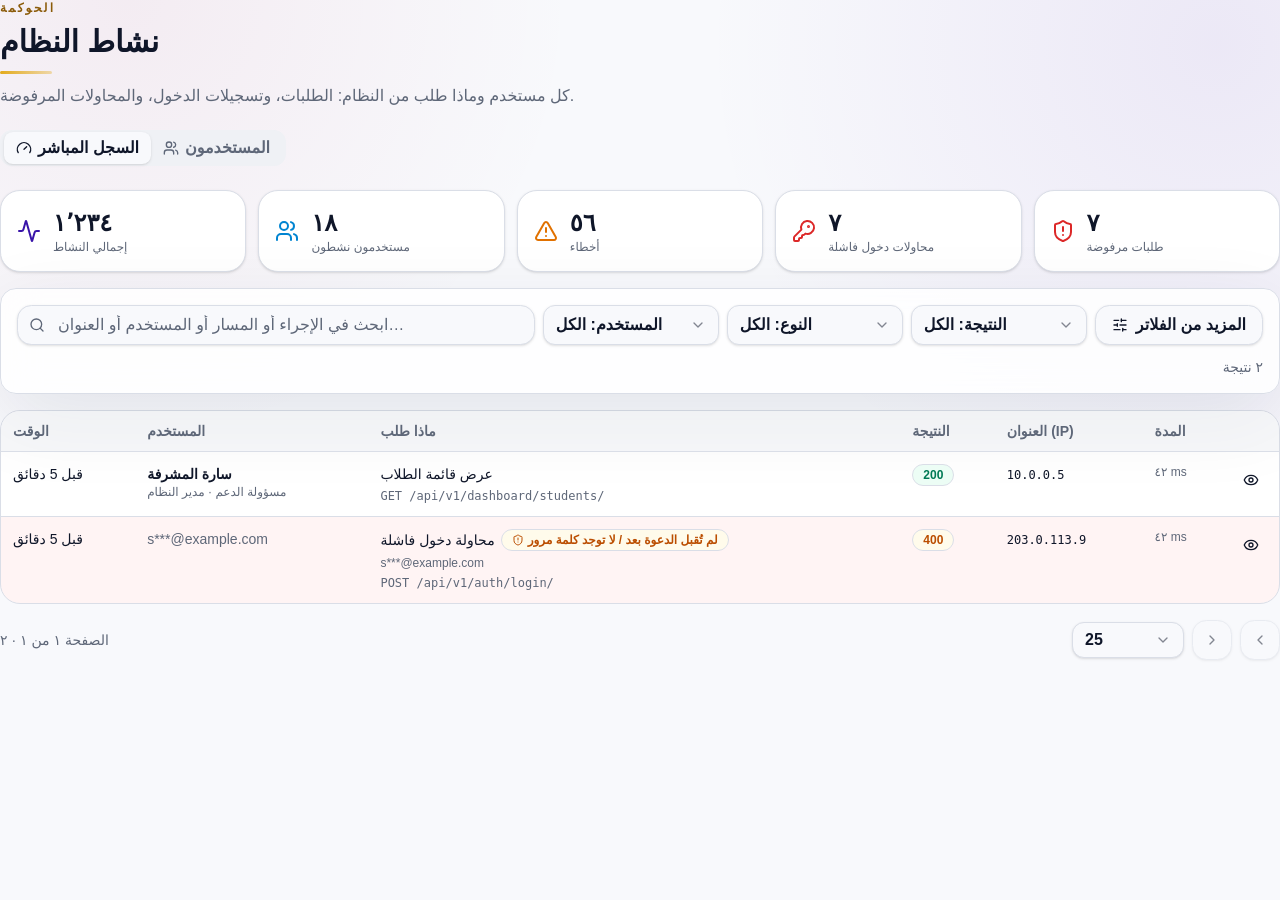
Scenario: system activity page › opens the full detail with user agent and extra data
Click the button named "عرض التفاصيل: محاولة دخول فاشلة" at [1251, 545], box left=1235, top=529, right=1267, bottom=561
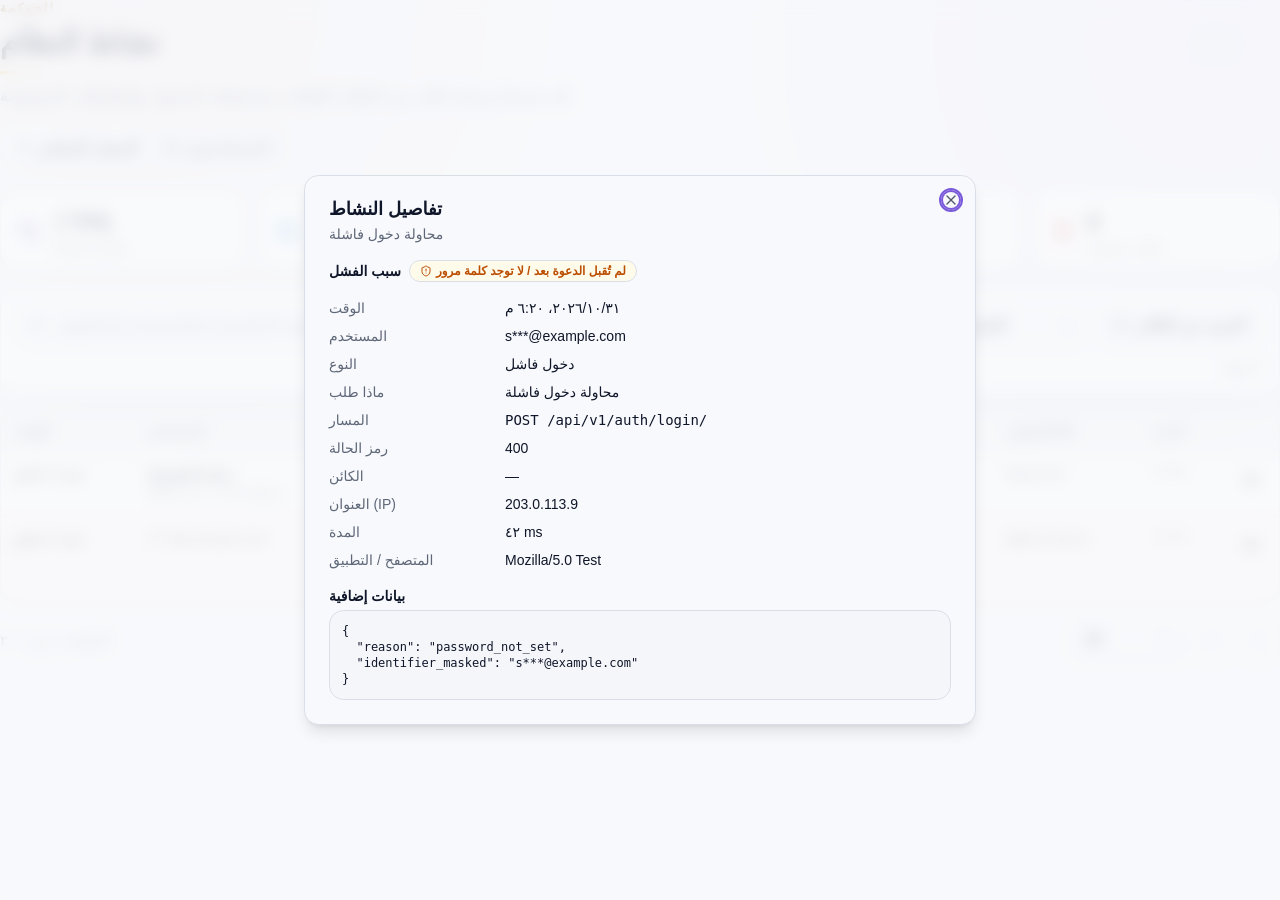
Expected: the text "Mozilla/5.0 Test" is shown, left=505, top=552, right=601, bottom=568
Expected: the text "identifier_masked" is shown, left=342, top=624, right=638, bottom=686
Expected: the element with test id "login-reason" is shown, left=409, top=260, right=637, bottom=282
